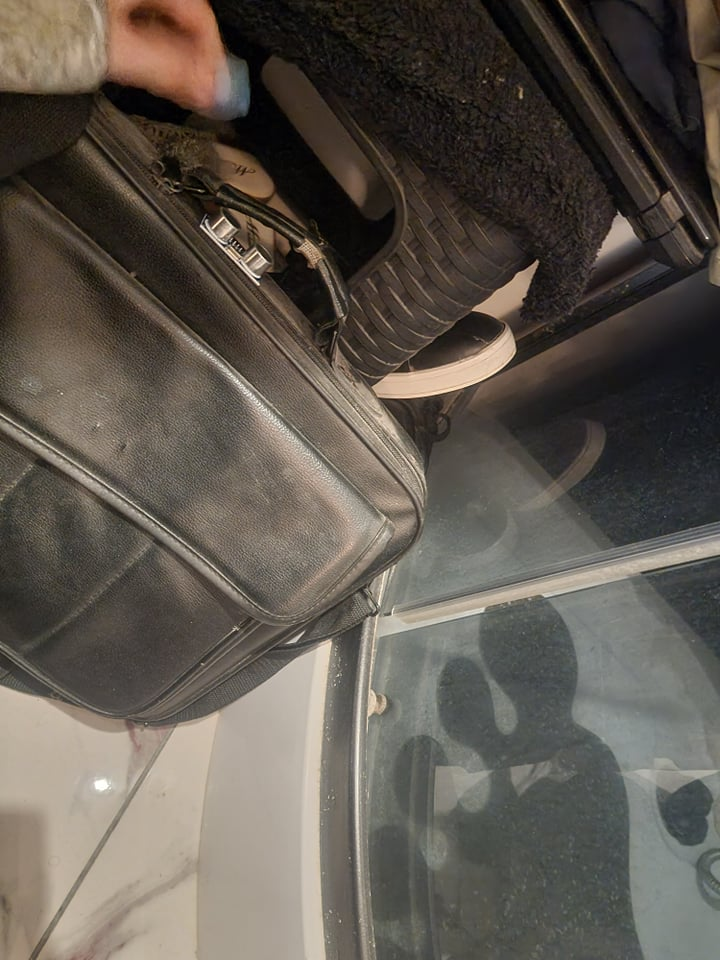SENSOR: (203, 202, 276, 293)
